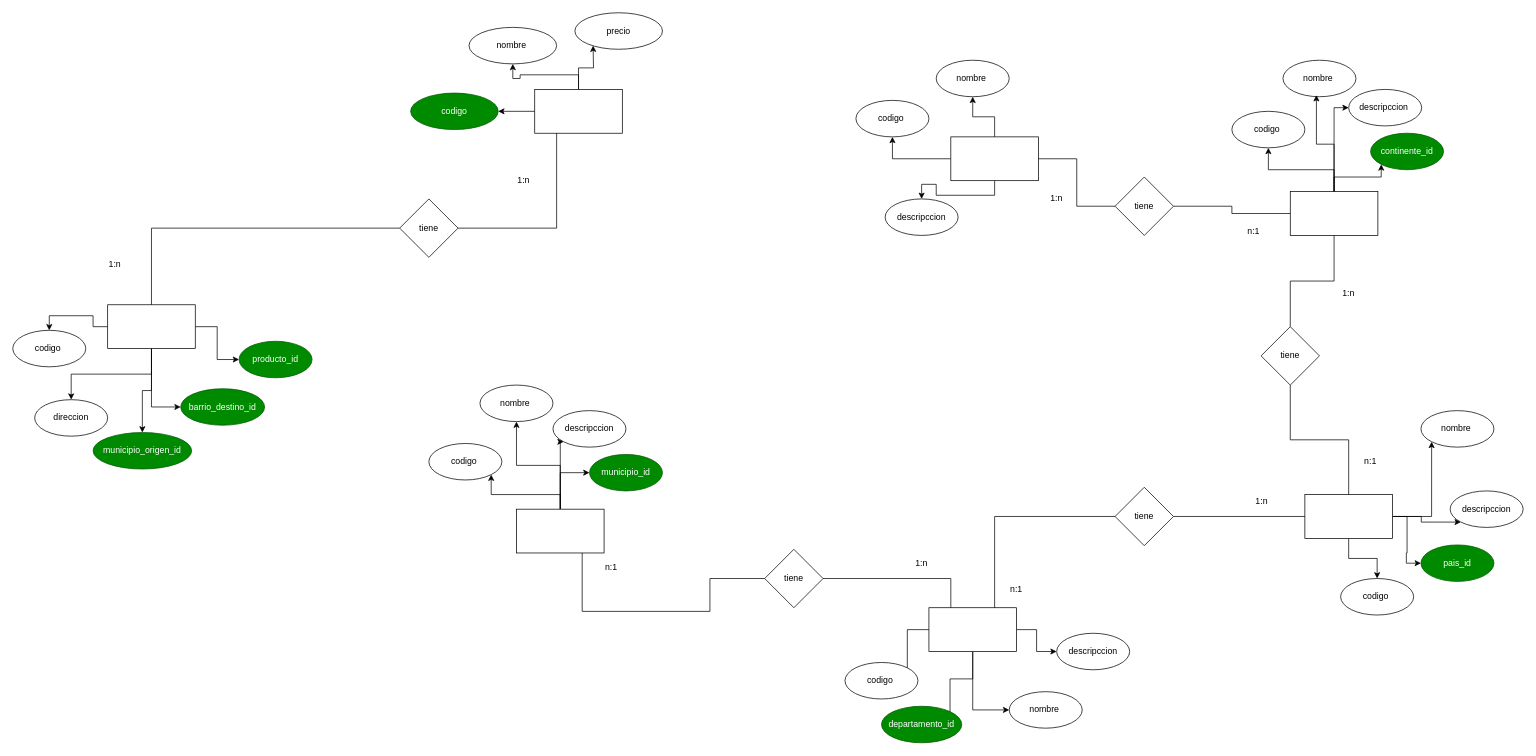
Some shapes in this 1536 by 756 pixel diagram are drawn without their labels. Each missing label, with the centre of its shape:
barrio: point (560, 530)
continente: point (994, 158)
departamento: point (1348, 516)
municipio: point (972, 629)
pais: point (1334, 213)
pedido: point (151, 326)
producto: point (578, 111)
